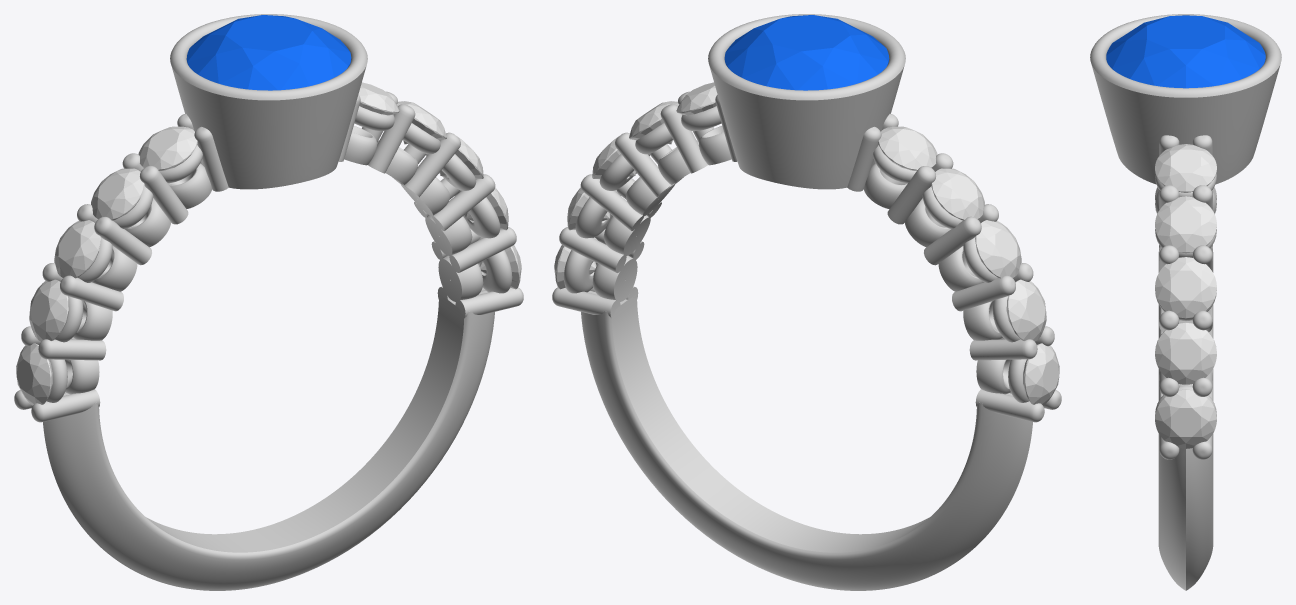
File: bluesapphire-round-platinum-bezelset-knifeedge-11stone.glb
The picture shows the model from 3 angles, left to right: view 1: azimuth 30°, elevation 25°; view 2: azimuth 150°, elevation 25°; view 3: azimuth 270°, elevation 25°; orthographic projection. The views are drawn at different scales.
Visible parts, largest first — view 1: metal, stone, side.001, side.002, side, side.003, side.004, side.005, side.006; view 2: metal, stone, side.001, side.002, side, side.003, side.004, side.005, side.006; view 3: metal, stone, side.008, side.007, side.009, side.006, side.005.
Boxes of the visible parts, box(x1,y1,x2,y2) form: metal: box(14, 14, 523, 590); stone: box(186, 15, 351, 90); side.001: box(91, 168, 144, 220); side.002: box(54, 220, 100, 278); side: box(138, 126, 197, 170); side.003: box(29, 279, 69, 341); side.004: box(16, 343, 52, 405); side.005: box(358, 82, 399, 115); side.006: box(396, 101, 446, 144); metal: box(552, 14, 1061, 590); stone: box(724, 15, 889, 90); side.001: box(931, 168, 984, 220); side.002: box(975, 220, 1021, 278); side: box(878, 126, 937, 170); side.003: box(1006, 279, 1046, 341); side.004: box(1023, 343, 1059, 405); side.005: box(676, 82, 717, 115); side.006: box(629, 101, 679, 144); metal: box(1090, 14, 1281, 590); stone: box(1106, 15, 1265, 88); side.008: box(1155, 323, 1216, 384); side.007: box(1155, 257, 1216, 318); side.009: box(1155, 389, 1216, 448); side.006: box(1155, 196, 1216, 253); side.005: box(1155, 144, 1216, 192).
Bounding box in the file's own units: 22.19 × 23.81 × 7.74.
